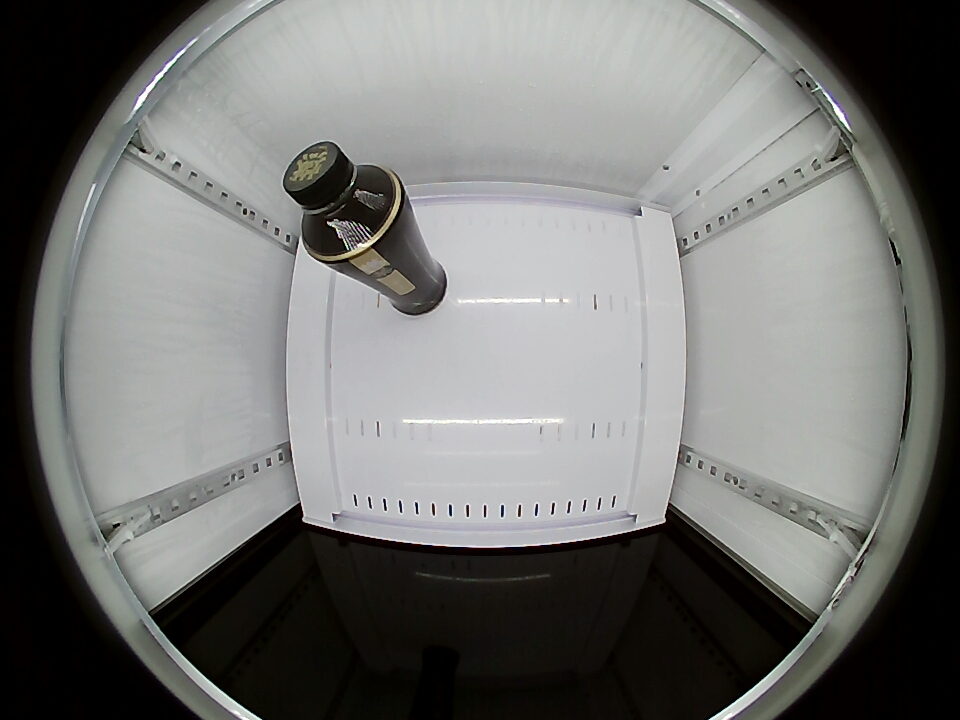rancha-1: (282, 141, 401, 262)
